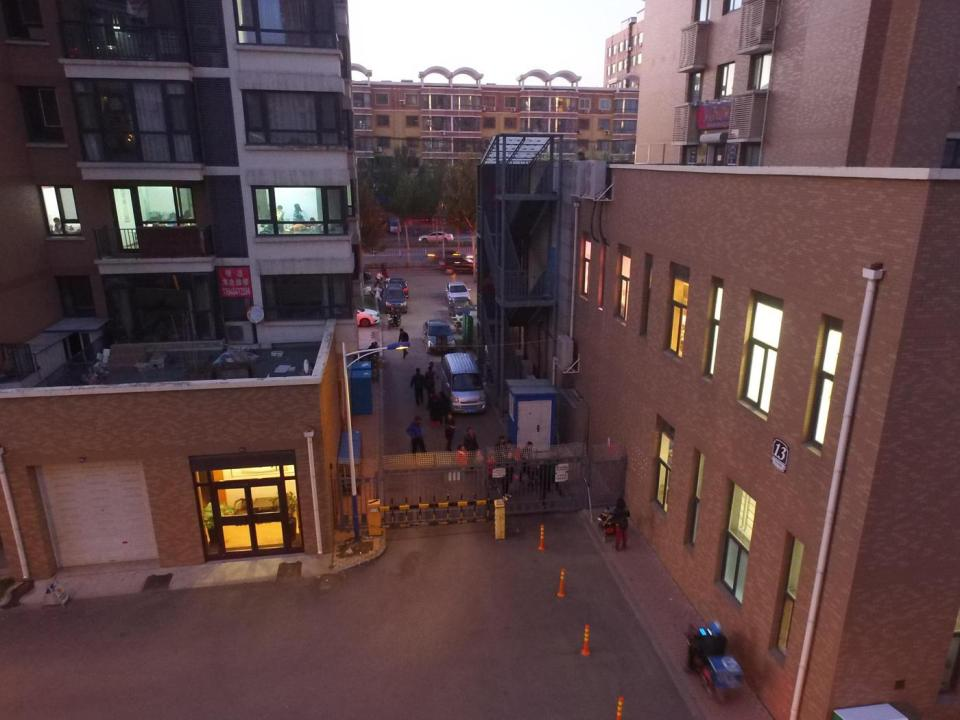car: (423, 320, 456, 354), (329, 306, 379, 326), (439, 255, 487, 275), (384, 283, 408, 316), (331, 265, 372, 284), (448, 298, 478, 323), (424, 248, 466, 265), (445, 281, 471, 304), (384, 277, 410, 300), (418, 231, 454, 245)
van: (438, 353, 487, 414), (390, 218, 401, 236)
